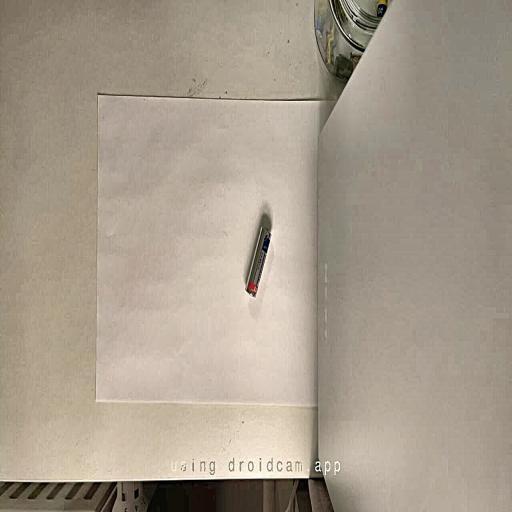RainbowAA: (246, 227, 270, 297)
